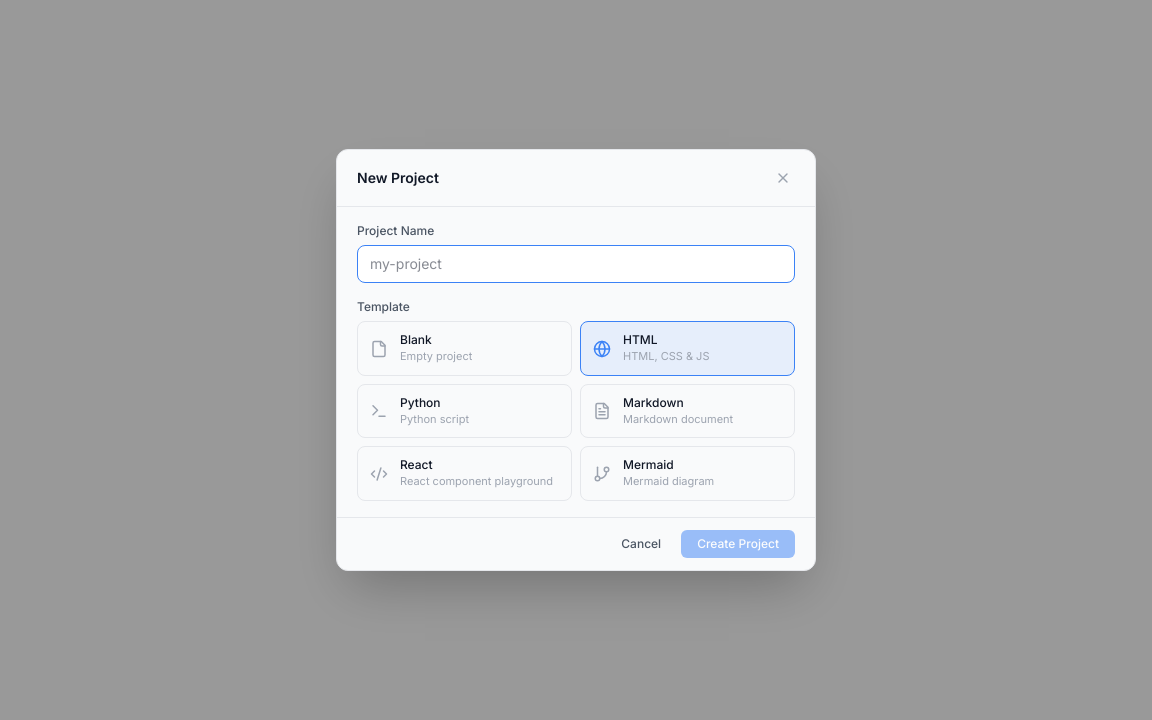
Test: NewProjectDialog › should show validation error for duplicate project name
The image size is (1152, 720).
Type "existing-project" into the field with placeholder "my-project" at (576, 264), box [357,245,795,283]
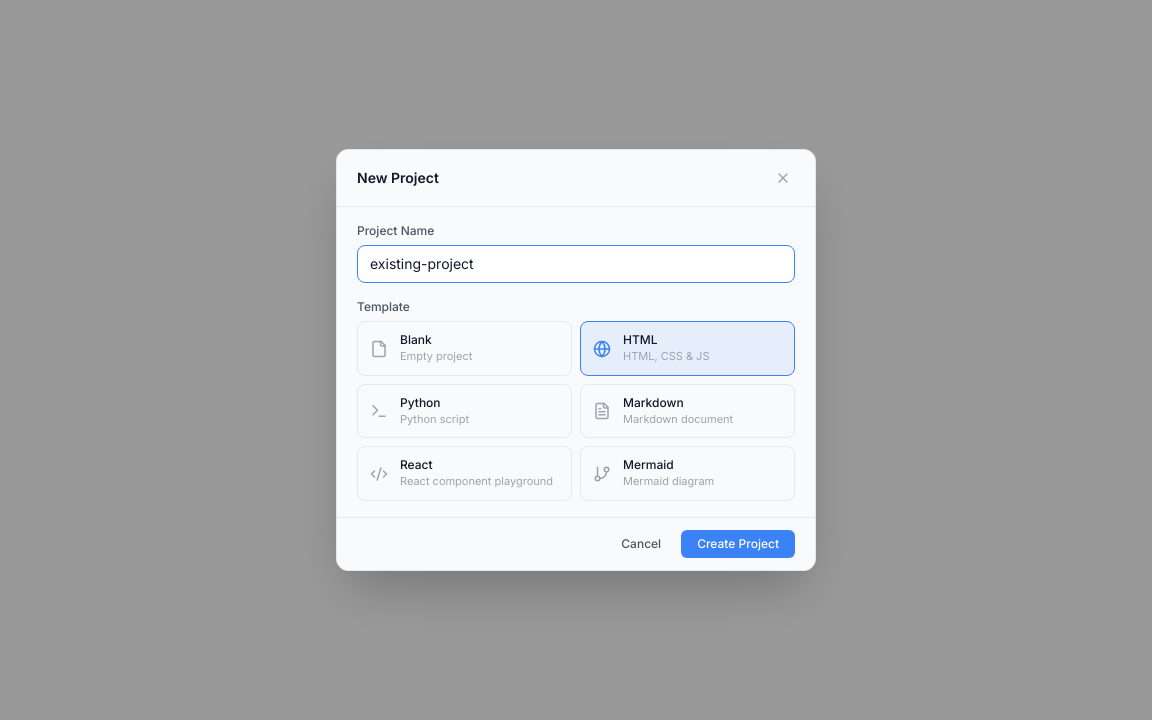
Click the button "Create Project" at (738, 544), box [681,530,795,558]
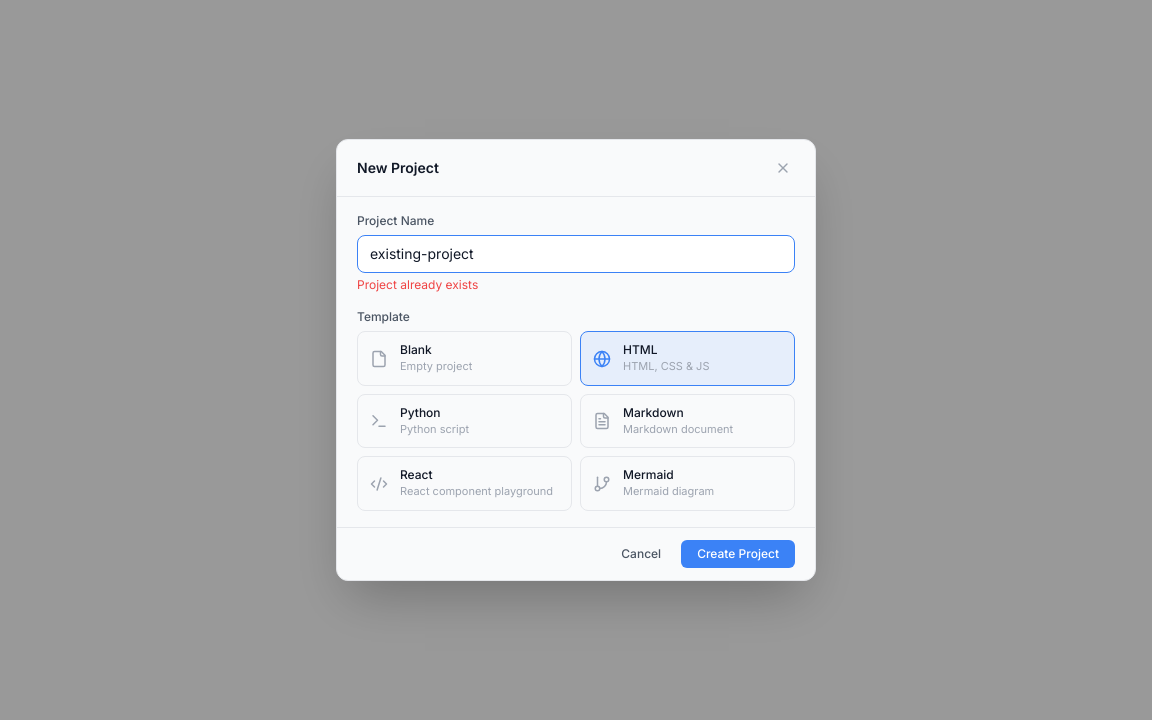
Expected: the text "Project already exists" is shown, [357,277,478,292]
